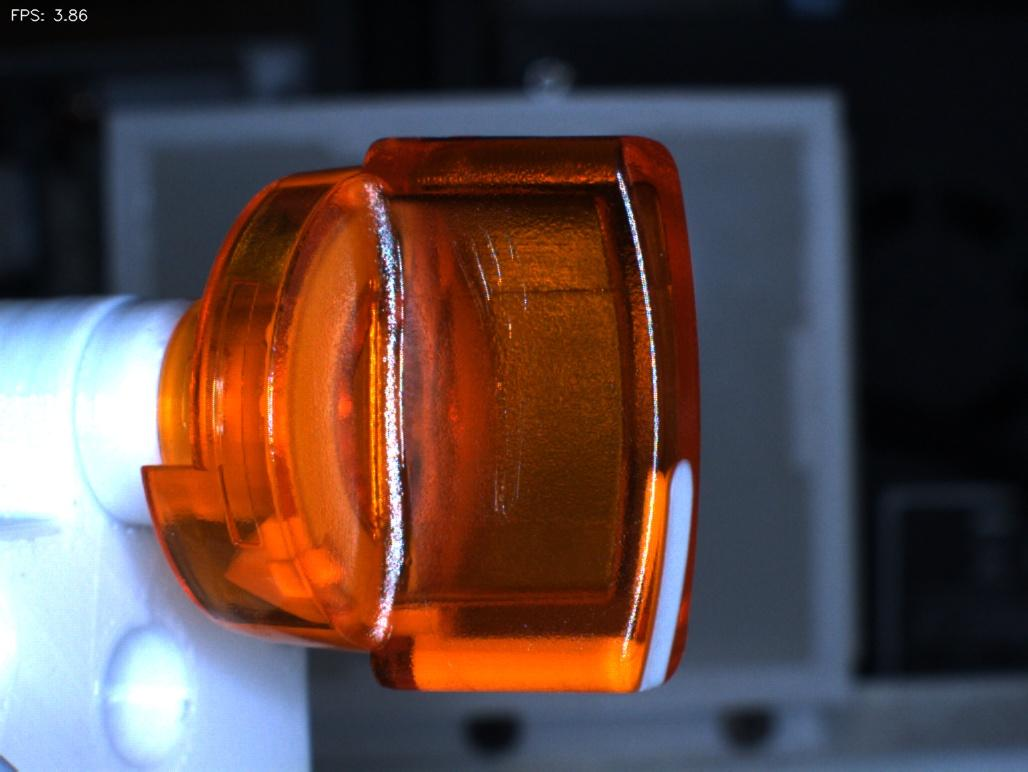Givrage: (443, 204, 551, 534)
